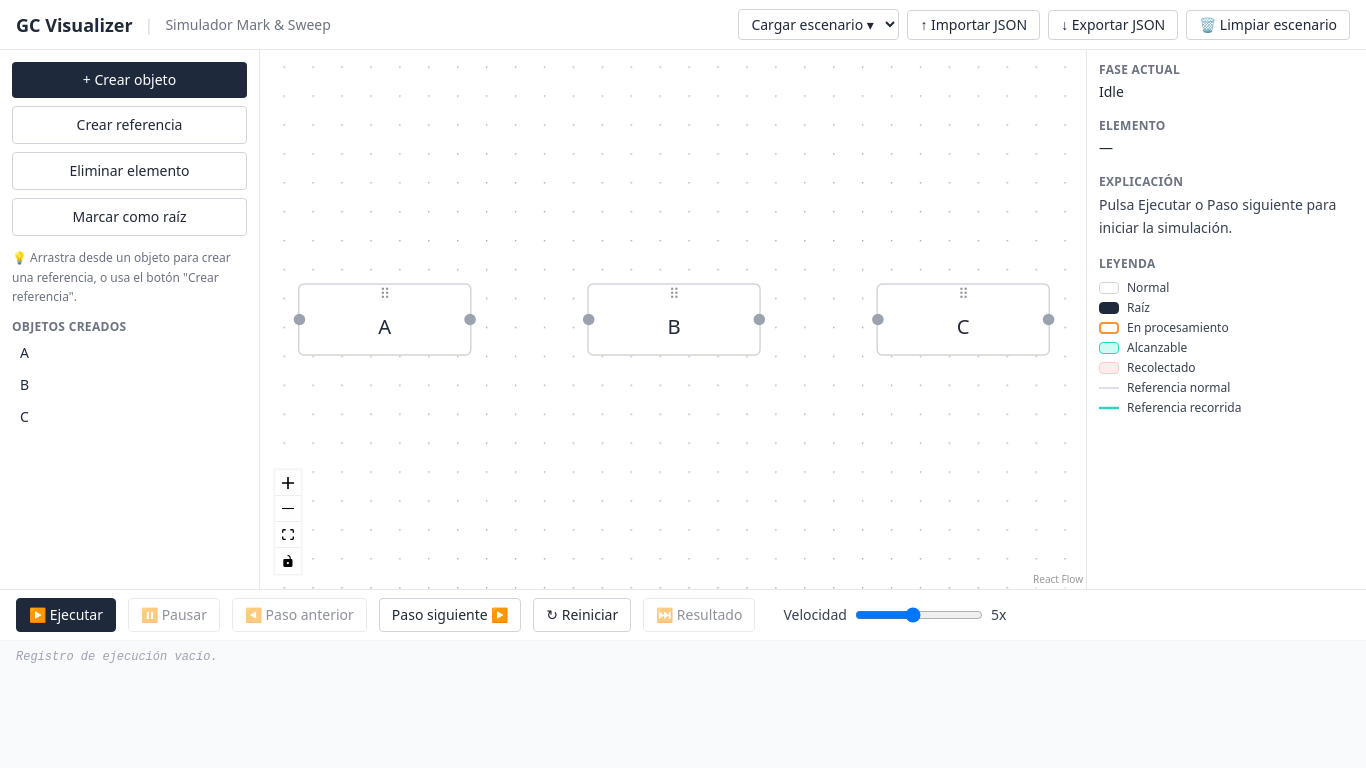
Scenario: GC Visualizer — End-to-End › TC-E-17: ejecutar simulación sin raíces definidas
Expected: the element with test id "graph-canvas" is shown, [260,50,1086,589]
Click the button with test id "btn-ejecutar": (66, 615) [16,598,116,632]
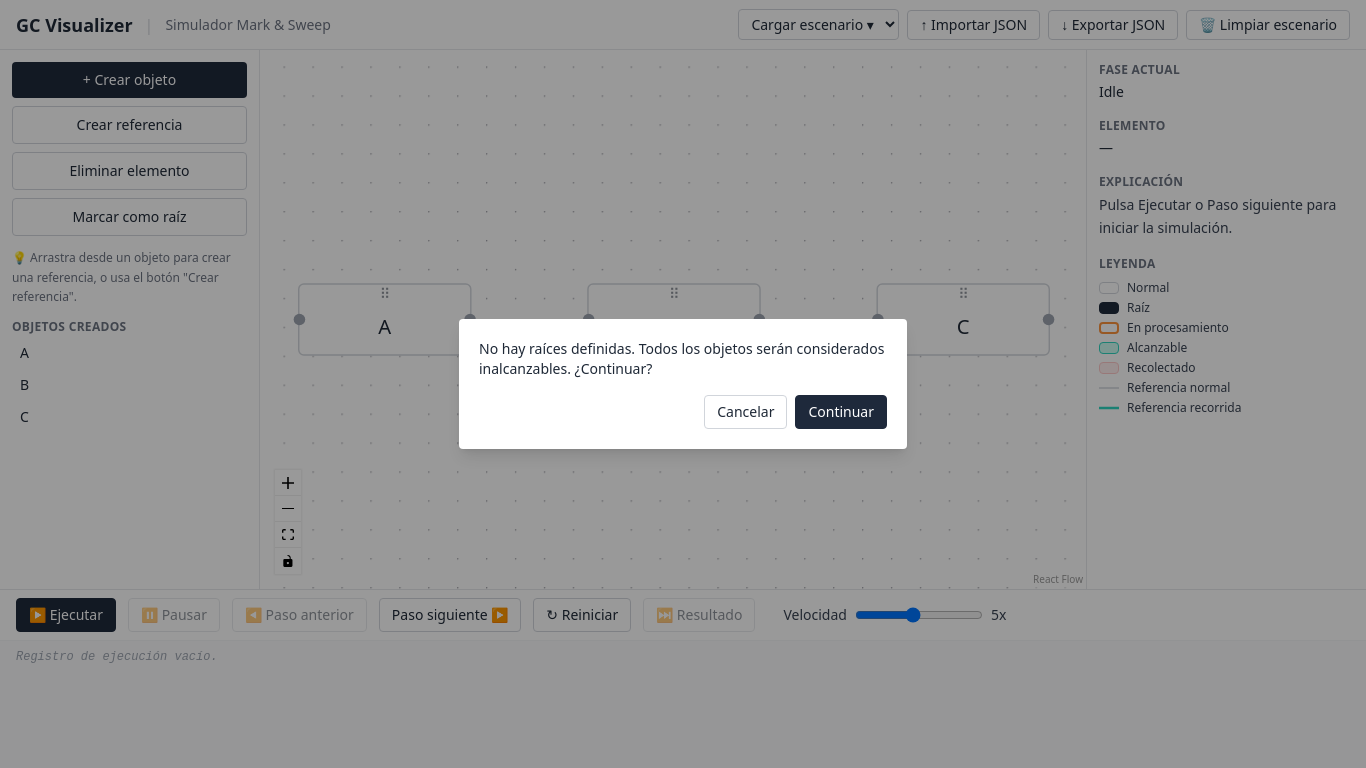
Now the text "No hay raíces definidas. Todos los objetos serán considerados inalcanzables." is shown, box [479,339,884,378]
Click the button "Continuar": (841, 412) [795,395,887,429]
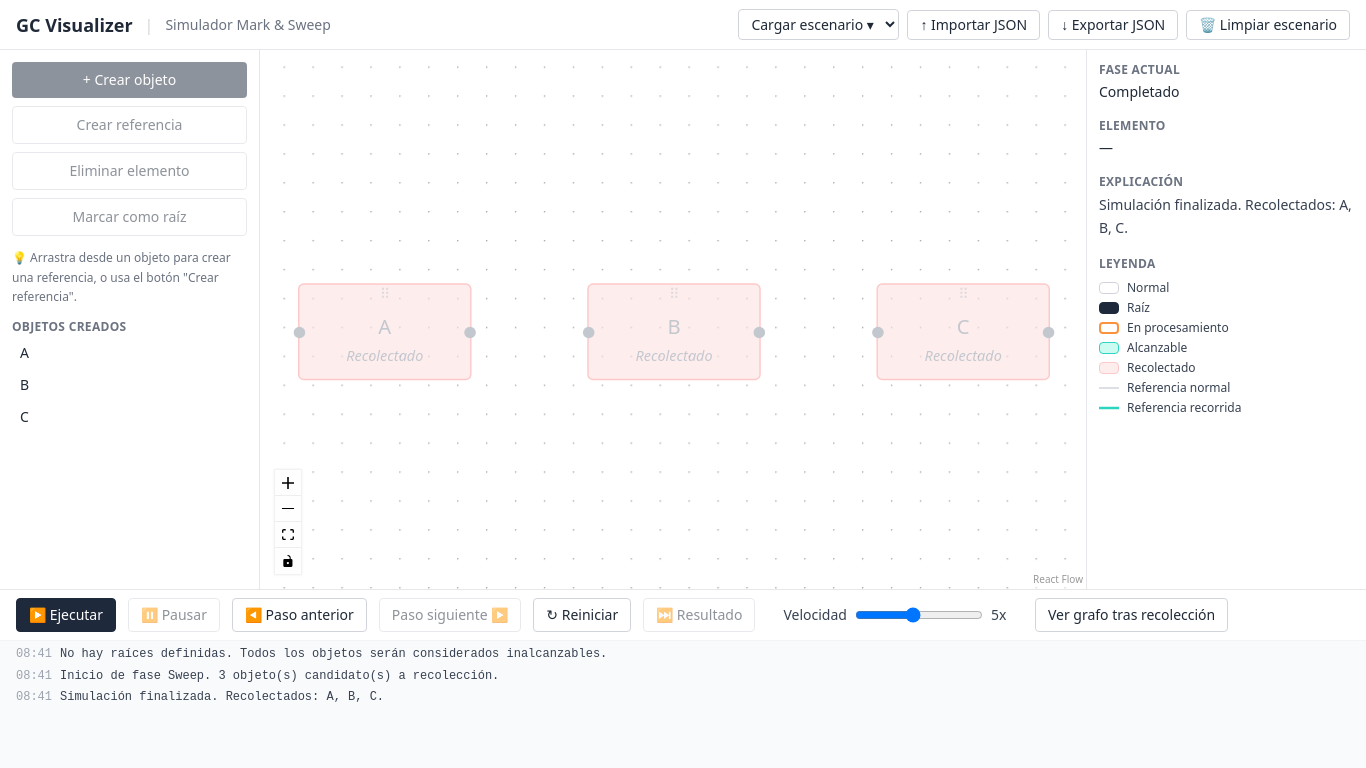
Now the text with test id "info-fase-actual" reads "Completado", box [1099,82,1180,101]
